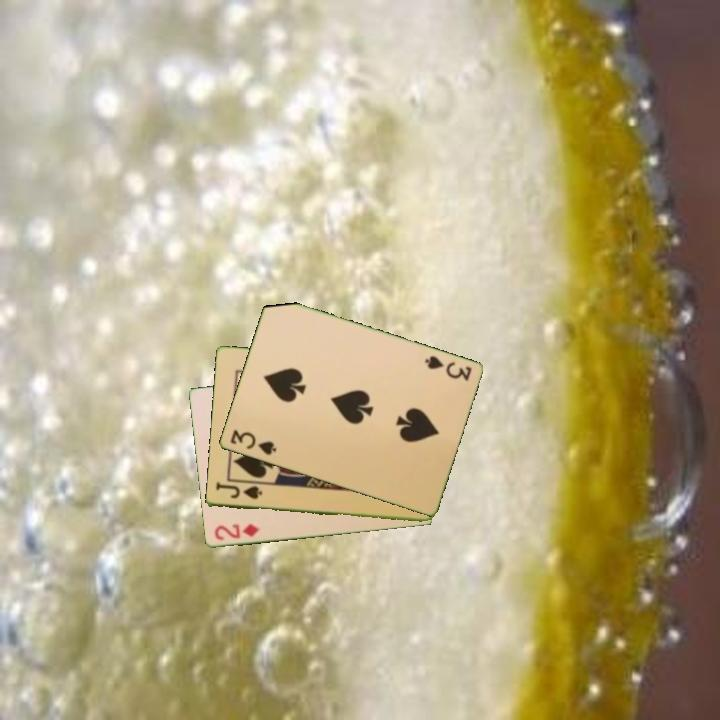2d: (210, 521, 262, 543)
3s: (226, 426, 279, 458), (421, 352, 474, 384)
Js: (212, 481, 264, 502)
